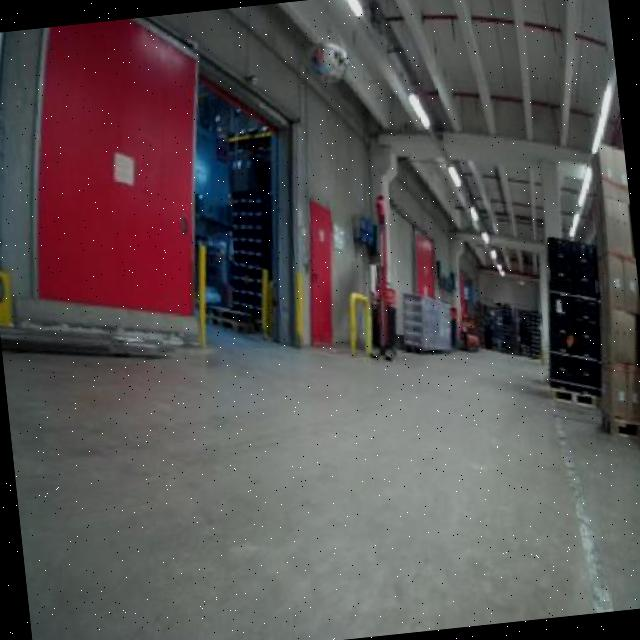pallet: (545, 374, 600, 421), (593, 401, 640, 447)
